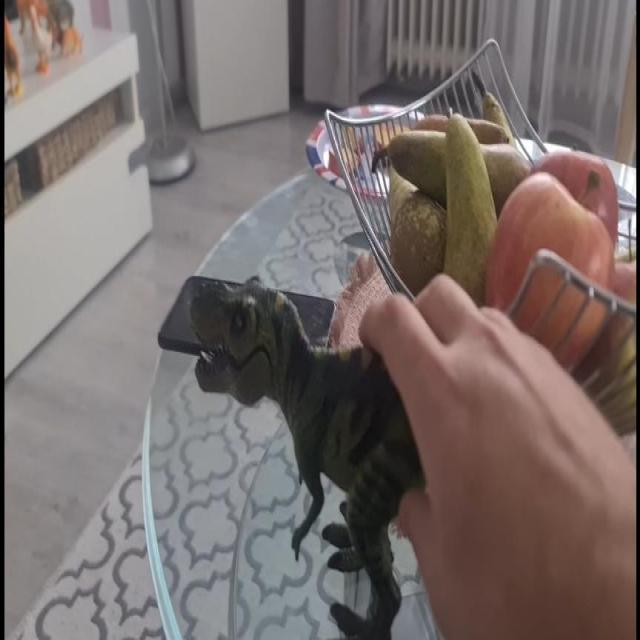hard-toy: (192, 284, 425, 640)
